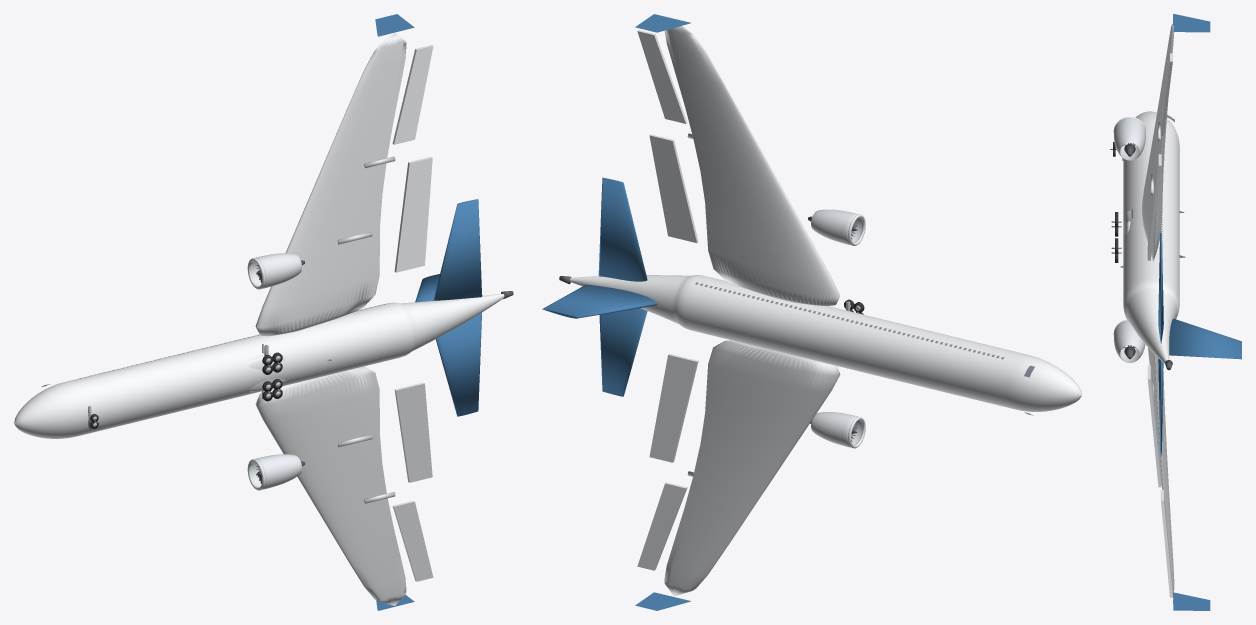
The picture shows the model from 3 angles, left to right: view 1: azimuth 30°, elevation 25°; view 2: azimuth 150°, elevation 25°; view 3: azimuth 270°, elevation 25°; orthographic projection.
Visible parts, largest first — view 1: Fuselage, Wing_R, Wing_L, HStab_R, HStab_L, Flap_R, Flap_L, Aileron_R, Aileron_L, Nacelle_-1_0, Nacelle_1_0; view 2: Fuselage, Wing_L, Wing_R, HStab_R, Flap_L, HStab_L, Flap_R, Fin, Aileron_L, Aileron_R, Nacelle_1_0, Nacelle_-1_0; view 3: Fuselage, Wing_R, Fin, Wing_L, Nacelle_1_0, Nacelle_-1_0, Flap_L, Sharklet_R, Sharklet_L, Flap_R, Aileron_L, HStab_R (+2 smaller).
Part boxes in pixels (box(x1,y1,x2,y2)): Fuselage: box(14, 294, 504, 438); Wing_R: box(255, 33, 406, 336); Wing_L: box(255, 366, 406, 605); HStab_R: box(433, 199, 481, 300); HStab_L: box(436, 313, 481, 416); Flap_R: box(394, 157, 432, 272); Flap_L: box(394, 382, 432, 482); Aileron_R: box(392, 45, 433, 144); Aileron_L: box(392, 500, 433, 581); Nacelle_-1_0: box(251, 454, 301, 489); Nacelle_1_0: box(251, 253, 301, 288); Fuselage: box(569, 275, 1081, 411); Wing_L: box(664, 340, 840, 596); Wing_R: box(664, 25, 840, 305); HStab_R: box(598, 177, 647, 281); Flap_L: box(649, 353, 698, 462); HStab_L: box(599, 308, 647, 396); Flap_R: box(649, 134, 698, 242); Fin: box(542, 284, 657, 318); Aileron_L: box(637, 482, 687, 570); Aileron_R: box(637, 30, 687, 123); Nacelle_1_0: box(811, 209, 862, 245); Nacelle_-1_0: box(811, 412, 862, 447); Fuselage: box(1123, 111, 1179, 363); Wing_R: box(1141, 23, 1174, 260); Fin: box(1169, 318, 1241, 359); Wing_L: box(1148, 347, 1174, 599); Nacelle_1_0: box(1114, 118, 1145, 160); Nacelle_-1_0: box(1114, 320, 1145, 362); Flap_L: box(1147, 365, 1161, 487); Sharklet_R: box(1173, 14, 1210, 32); Sharklet_L: box(1173, 592, 1210, 610); Flap_R: box(1147, 154, 1161, 260); Aileron_L: box(1160, 490, 1172, 597); HStab_R: box(1158, 232, 1163, 343).
Size of the model in its own units: 59.24 by 64 by 13.21.
